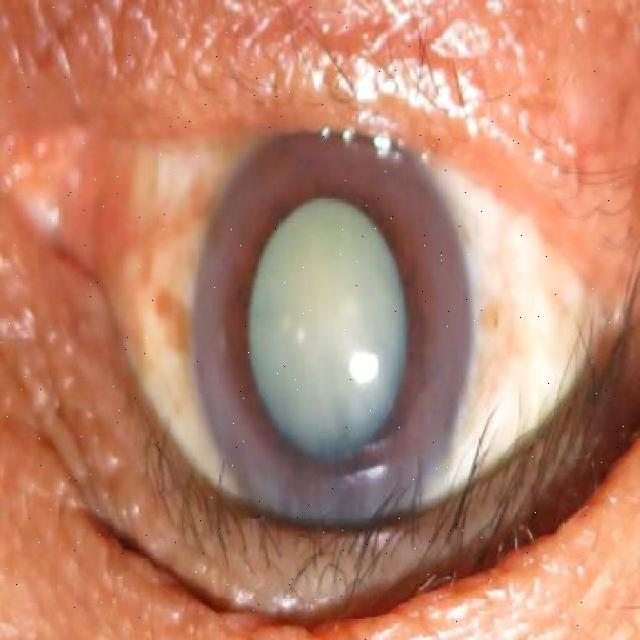Cataract: (188, 130, 472, 532)
